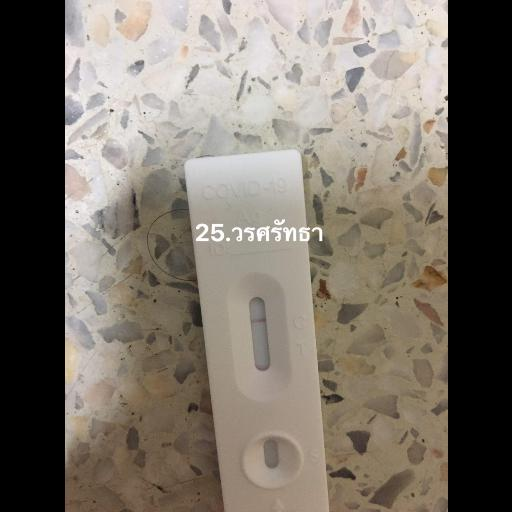Neg: (183, 151, 327, 509)
